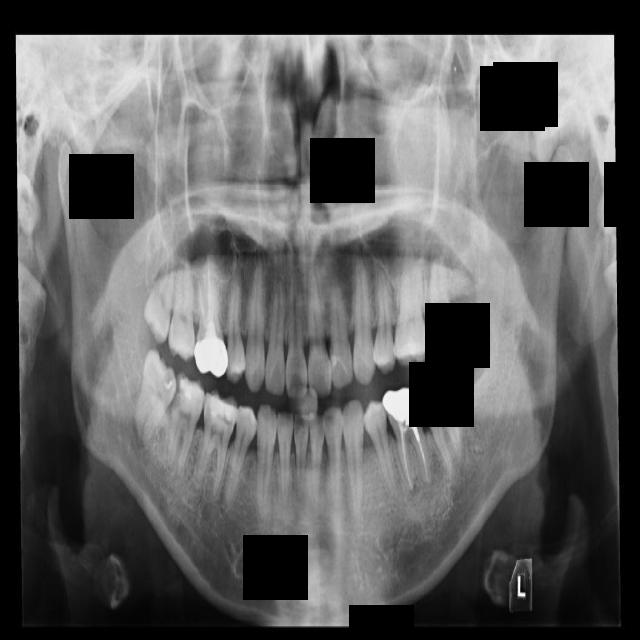3M ESPE Implant: (139, 239, 180, 344)
52: (380, 385, 424, 426), (192, 335, 231, 378), (202, 394, 242, 428), (433, 304, 462, 350), (174, 376, 206, 404), (329, 354, 337, 368), (163, 380, 174, 390)
73: (389, 410, 438, 493), (194, 253, 224, 342)
BioHorizons Implant: (426, 253, 464, 356)
Blue Sky Bio Implant: (415, 366, 465, 482)
Caries: (165, 262, 197, 364)
Implant: (162, 371, 208, 478)
Keystone Dental Implant: (128, 347, 183, 450)
